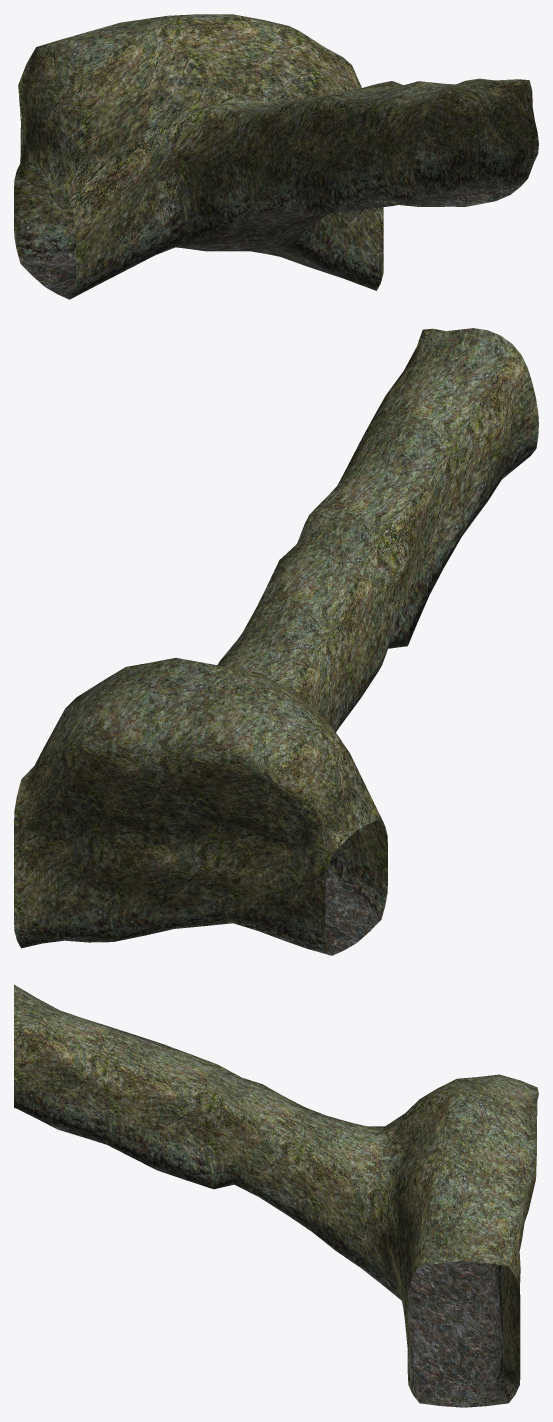
Rendered from thm_all_cave_s03_damprock_mirror_r1_r1.fbx.
3 views of the same model, one above another, from view 1: azimuth 30°, elevation 25°; view 2: azimuth 150°, elevation 25°; view 3: azimuth 270°, elevation 25° (orthographic). The views are drawn at different scales.
Visible parts, largest first — view 1: mesh_node; view 2: mesh_node; view 3: mesh_node.
Part boxes in pixels (left/top/right/bottom): mesh_node: left=14, top=14, right=538, bottom=299; mesh_node: left=14, top=328, right=538, bottom=955; mesh_node: left=14, top=984, right=538, bottom=1407.
Bounding box in the file's own units: 22.7 × 31.04 × 41.47.
